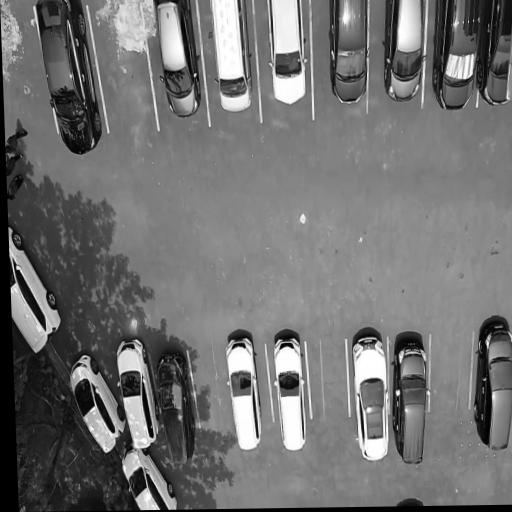Car: (35, 0, 101, 155), (8, 225, 65, 358), (429, 0, 490, 117), (386, 330, 435, 470), (349, 329, 395, 472), (67, 350, 126, 457), (469, 318, 512, 458), (155, 0, 202, 123), (378, 0, 432, 107), (115, 330, 161, 450), (326, 0, 375, 108), (154, 351, 198, 470), (263, 0, 311, 109), (224, 328, 265, 454), (270, 332, 310, 459), (208, 0, 251, 115), (473, 0, 512, 118), (119, 451, 180, 510)
Space Available: (88, 0, 156, 138), (306, 329, 349, 428), (188, 340, 232, 435), (432, 327, 472, 421)
